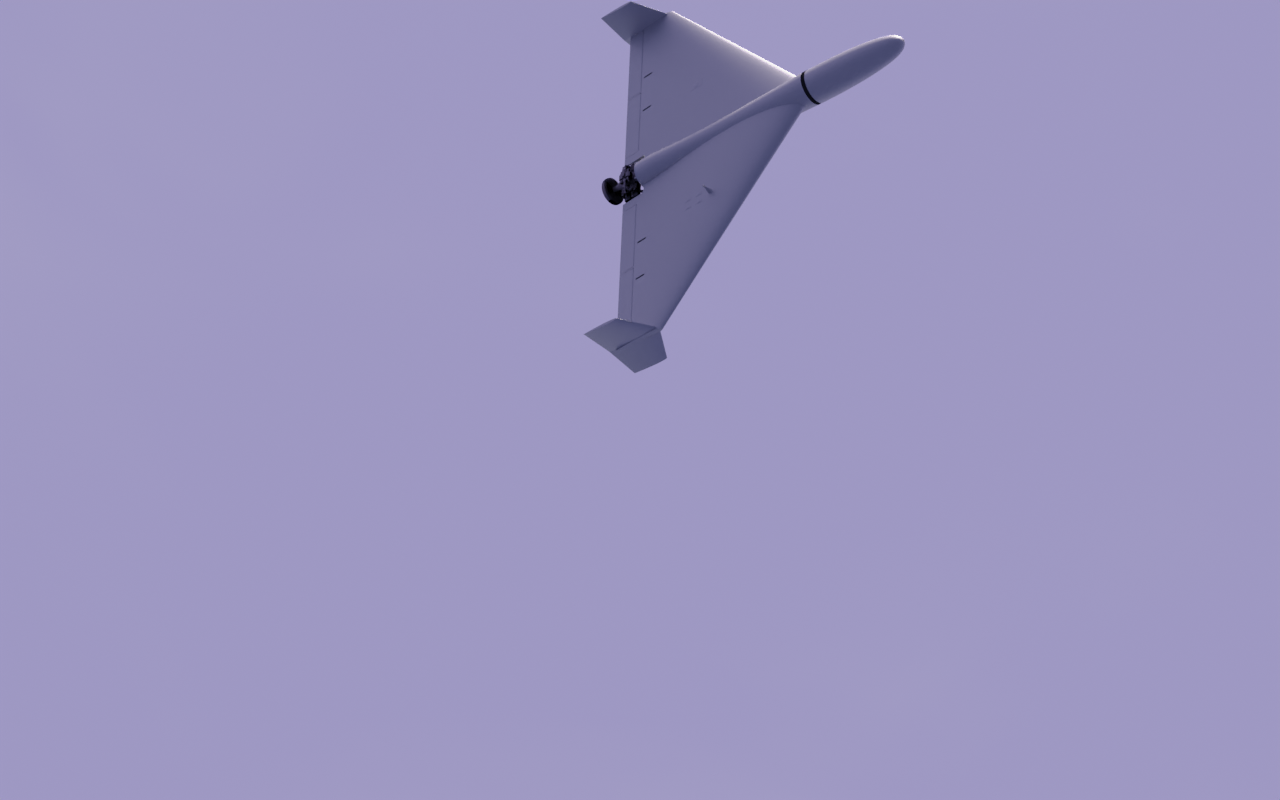shahed: (584, 1, 907, 375)
